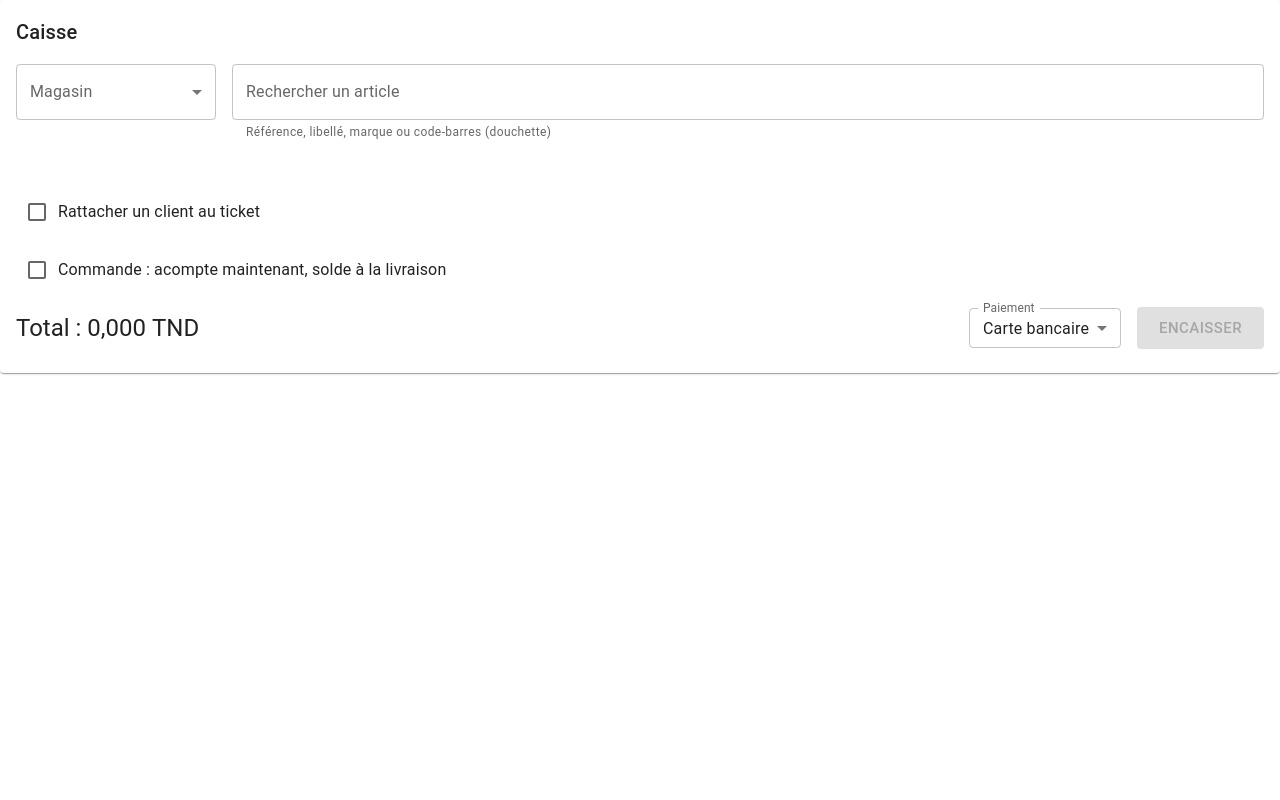
affiche le refus de l'API
Type "mon" into the field labelled "Rechercher un article" at [748, 92], box [232,64,1264,120]
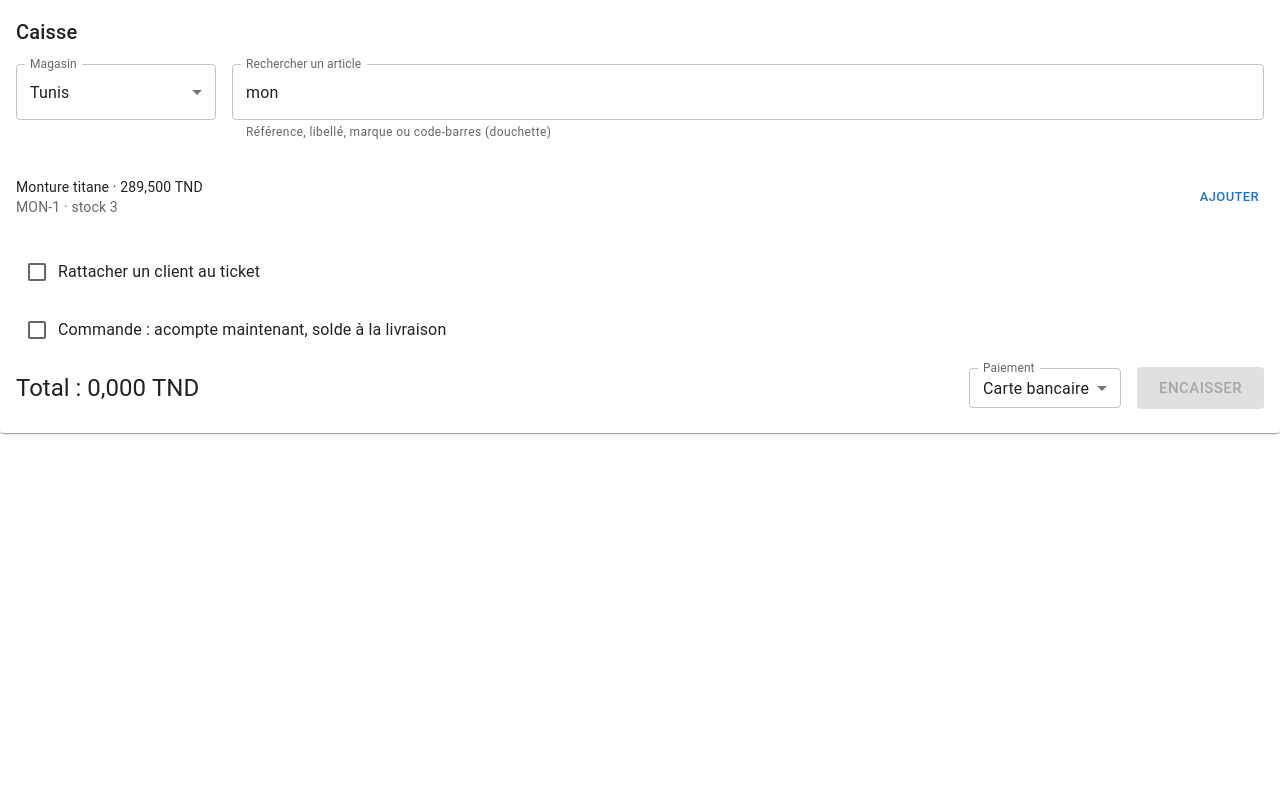
Click the button "Ajouter" at [1229, 197], box [1195,182,1264,212]
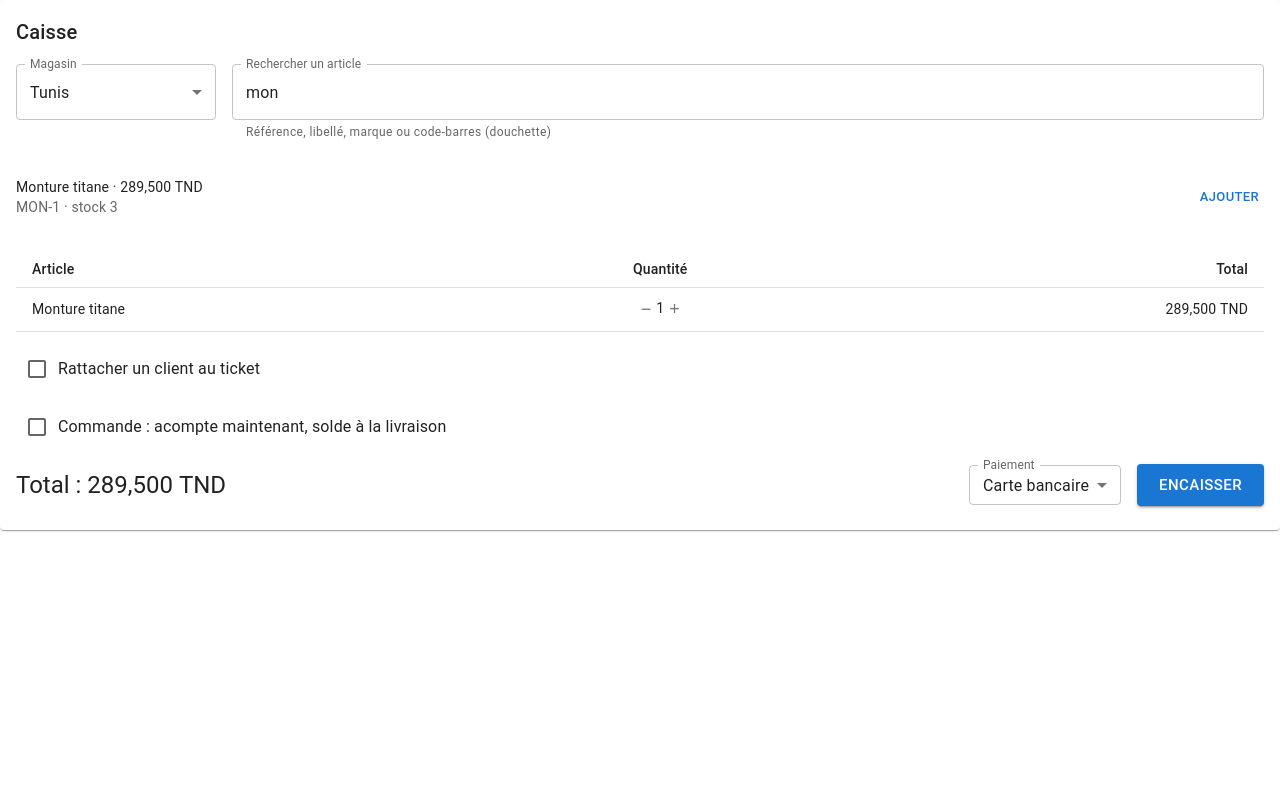
Click the button named "Ajouter un" at [674, 309], box [664,294,685,325]
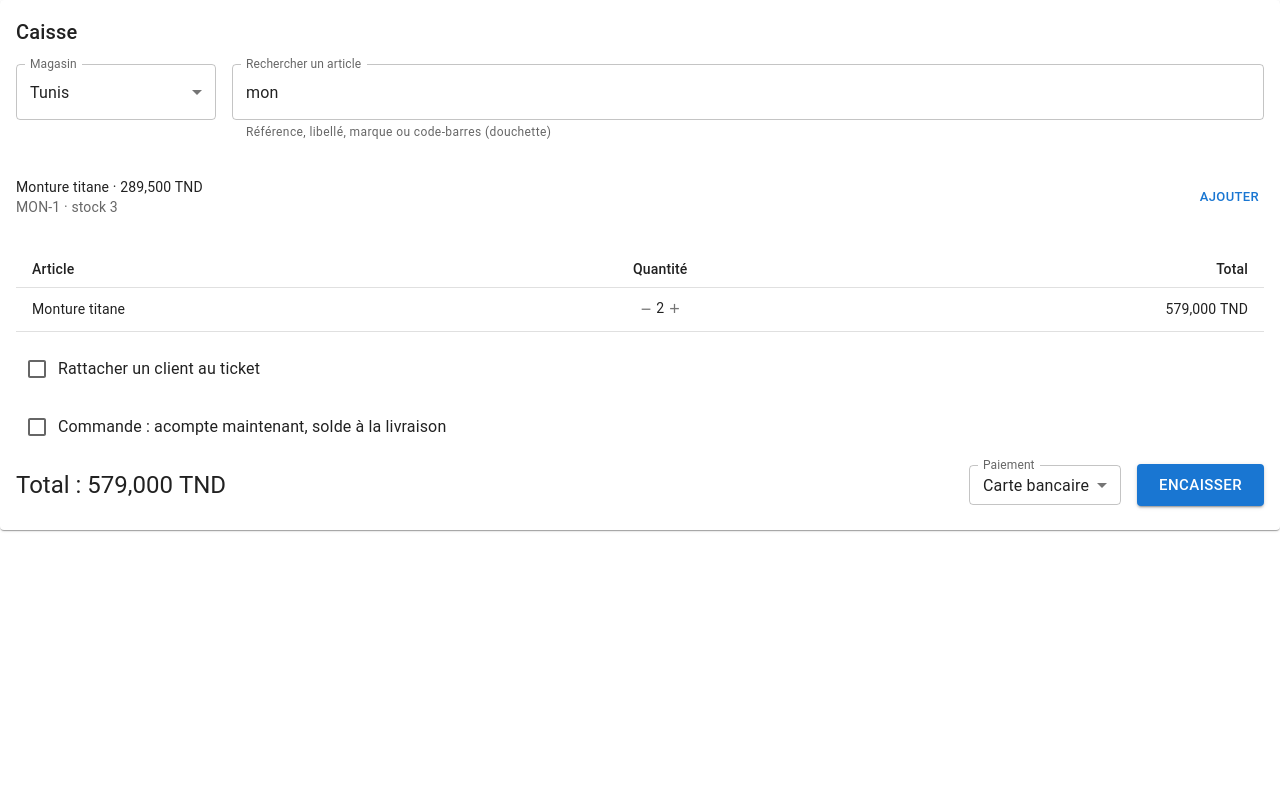
Click the button "Encaisser" at [1200, 485], box [1137,464,1264,506]
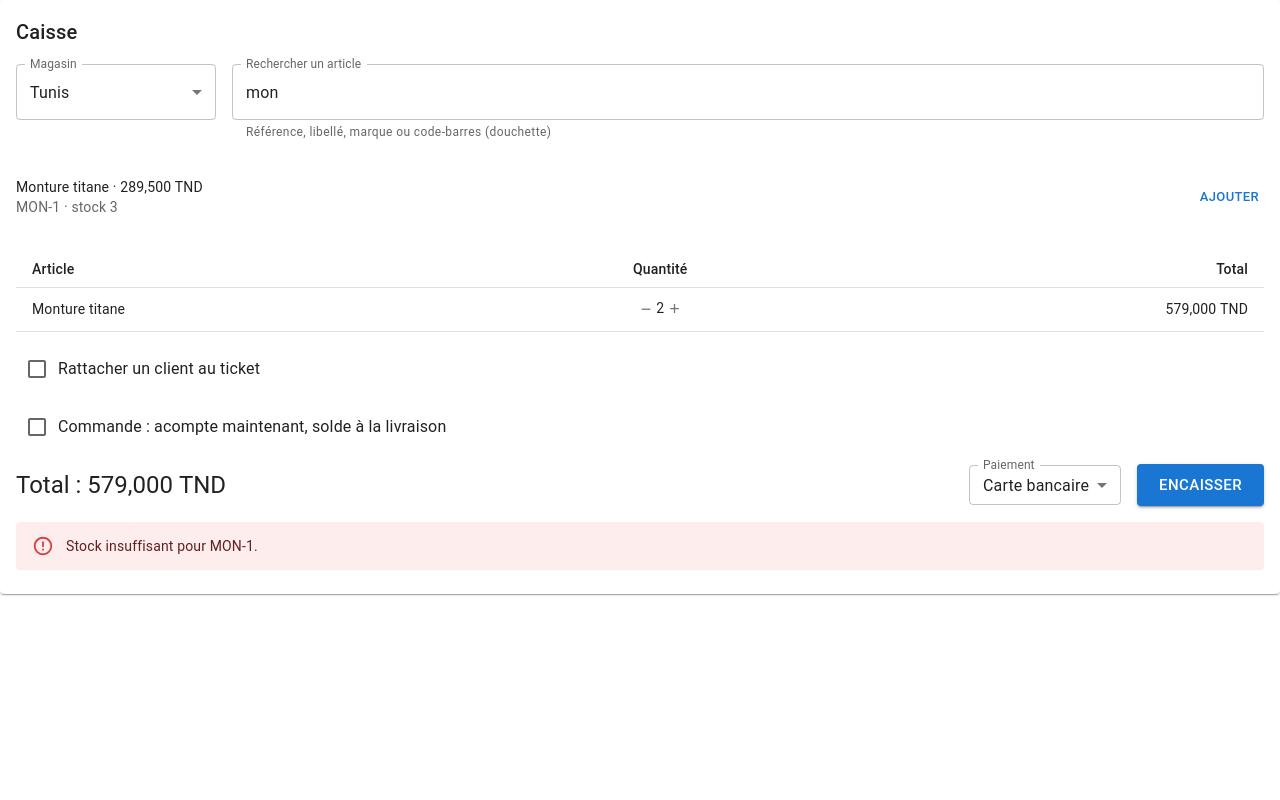
Result: the text "Stock insuffisant pour MON-1." is shown at [66,538,258,554]
